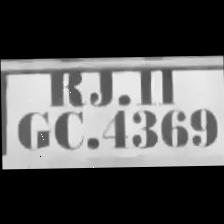3: (130, 105, 157, 150)
4: (99, 102, 126, 152)
6: (160, 104, 188, 150)
9: (186, 104, 219, 150)
C: (54, 109, 84, 153)
G: (17, 108, 48, 152)
J: (86, 62, 119, 106)
R: (45, 66, 82, 110)
